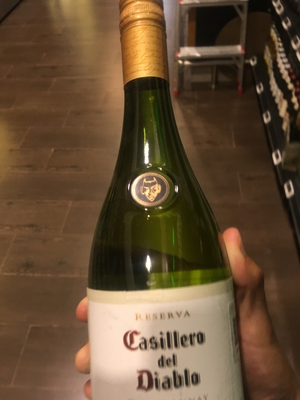casillero del diablo chardonnay: (80, 16, 244, 400)
